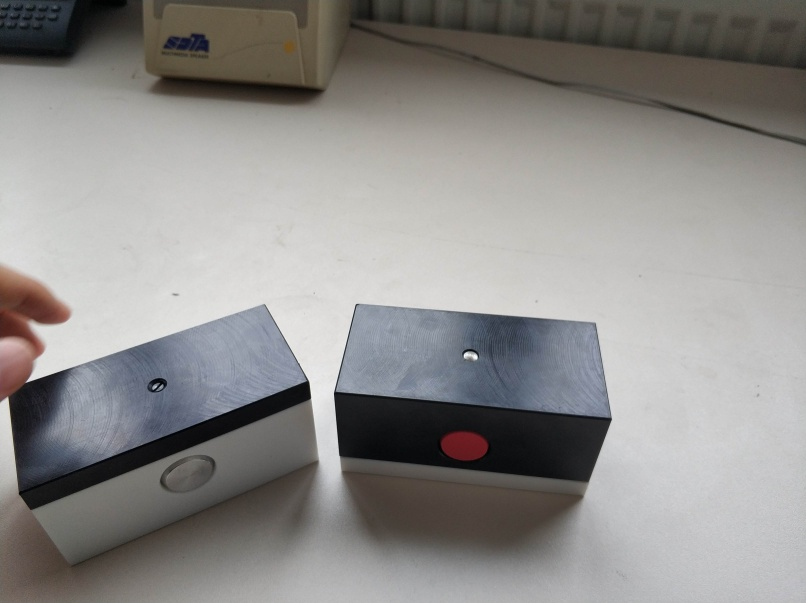black+white+silver: (7, 303, 321, 567)
white+black+red: (332, 300, 614, 503)
